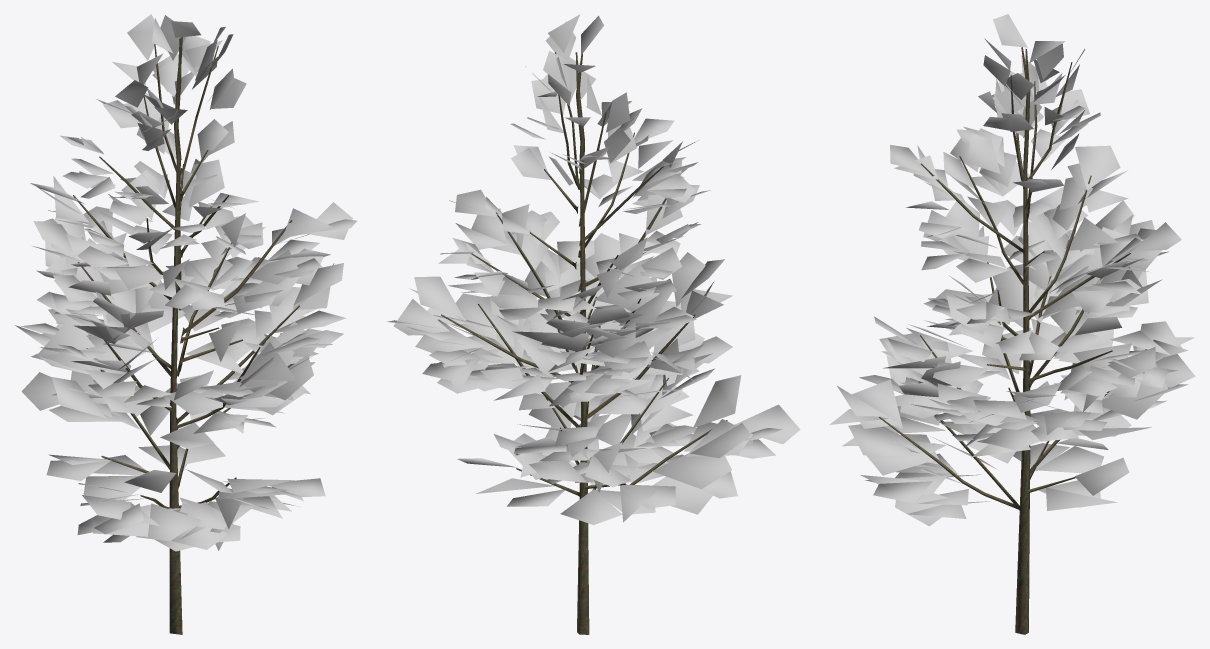
File: Tree_Sm_07_1_L3.fbx
The picture shows the model from 3 angles, left to right: view 1: azimuth 30°, elevation 25°; view 2: azimuth 150°, elevation 25°; view 3: azimuth 270°, elevation 25°; orthographic projection. The views are drawn at different scales.
Visible parts, largest first — view 1: polySurface42; view 2: polySurface42; view 3: polySurface42.
Boxes of the visible parts, <box> form: polySurface42: <box>15,14,356,634</box>; polySurface42: <box>387,14,800,634</box>; polySurface42: <box>829,14,1195,634</box>.
Bounding box in the file's own units: 352 × 659 × 357.
